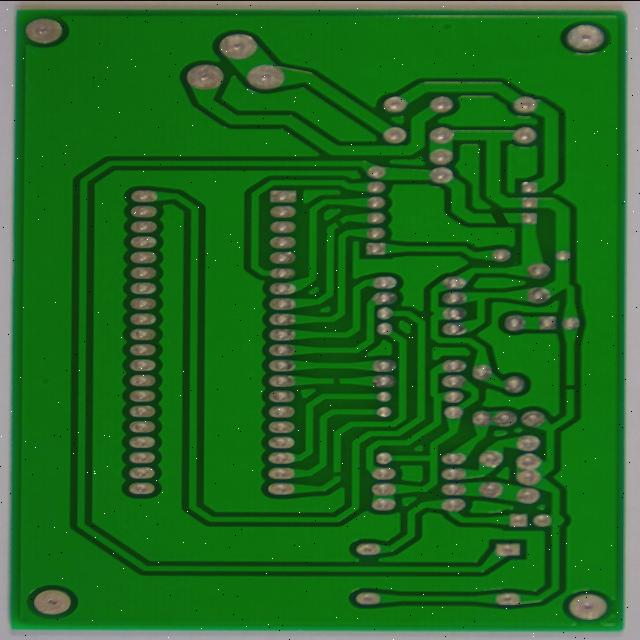open_circuit: (458, 226, 490, 245), (266, 403, 287, 419), (268, 232, 287, 247), (547, 411, 568, 424), (265, 506, 286, 519)
